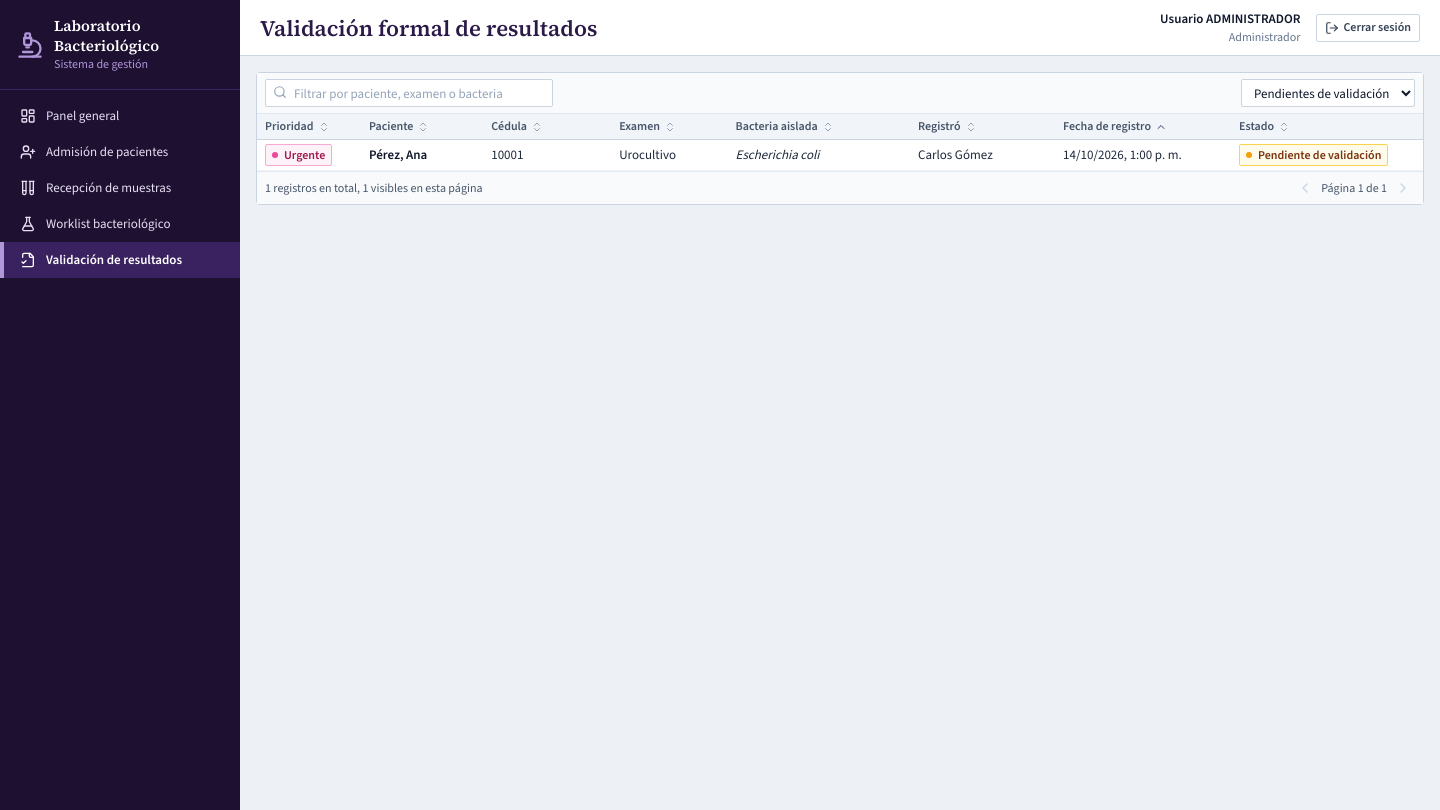
Validación con doble firma › el administrador solo consulta, no firma
This screenshot has width=1440, height=810.
Click the text "Pérez, Ana". click: (398, 154)
box: [369,146,427,163]
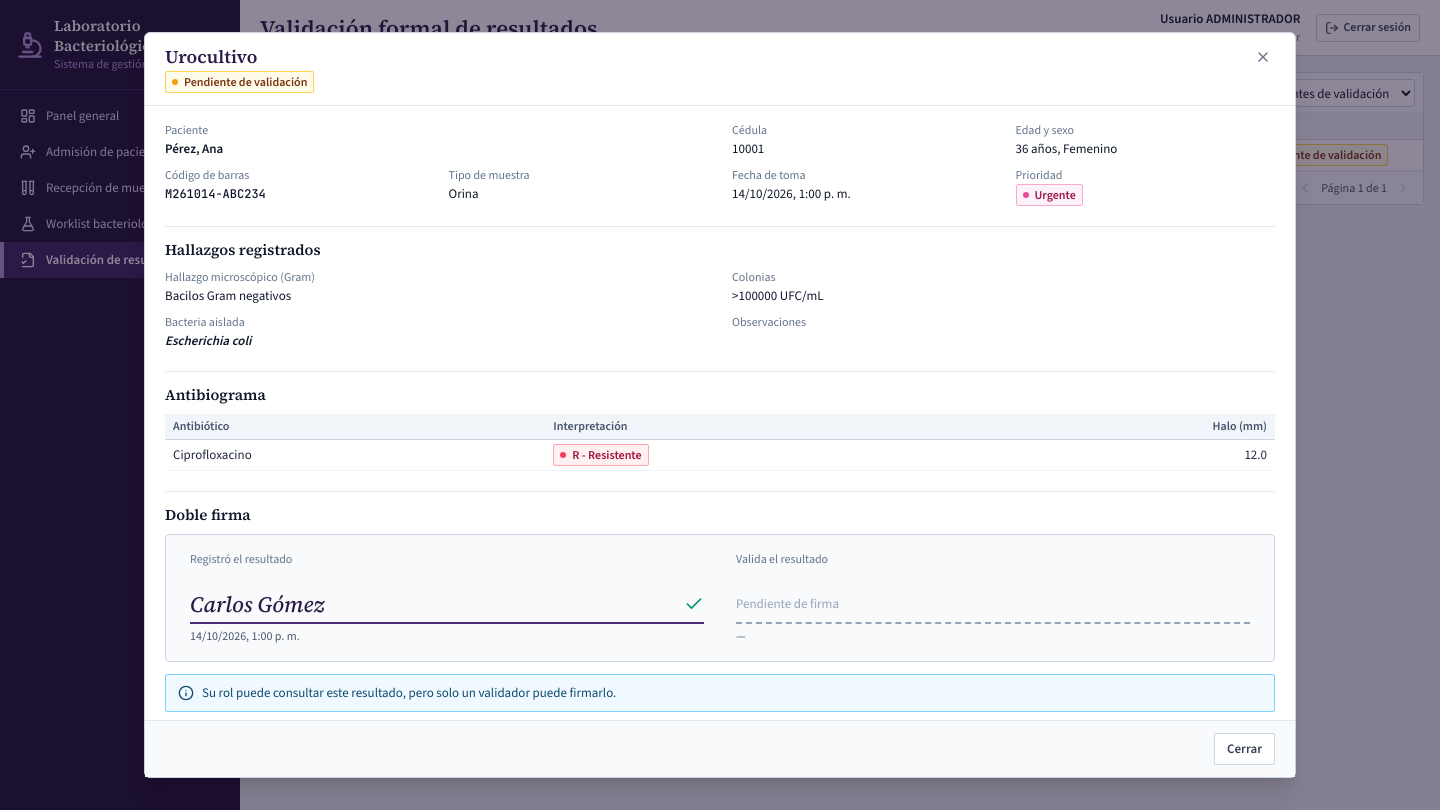
expect the text "solo un validador puede firmarlo" is shown: met, box [202,684,616,701]
